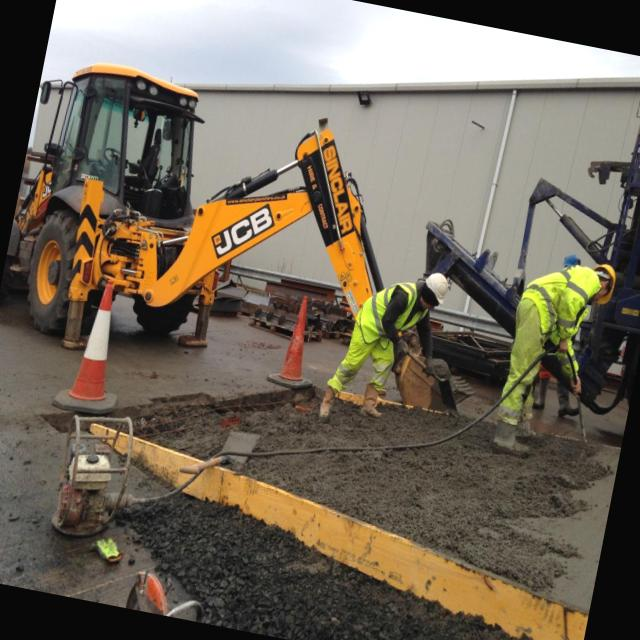boots: (484, 399, 544, 464), (349, 372, 398, 432), (314, 371, 352, 438)
helmet: (413, 266, 452, 316)
vest: (520, 256, 602, 330), (355, 276, 418, 353)
